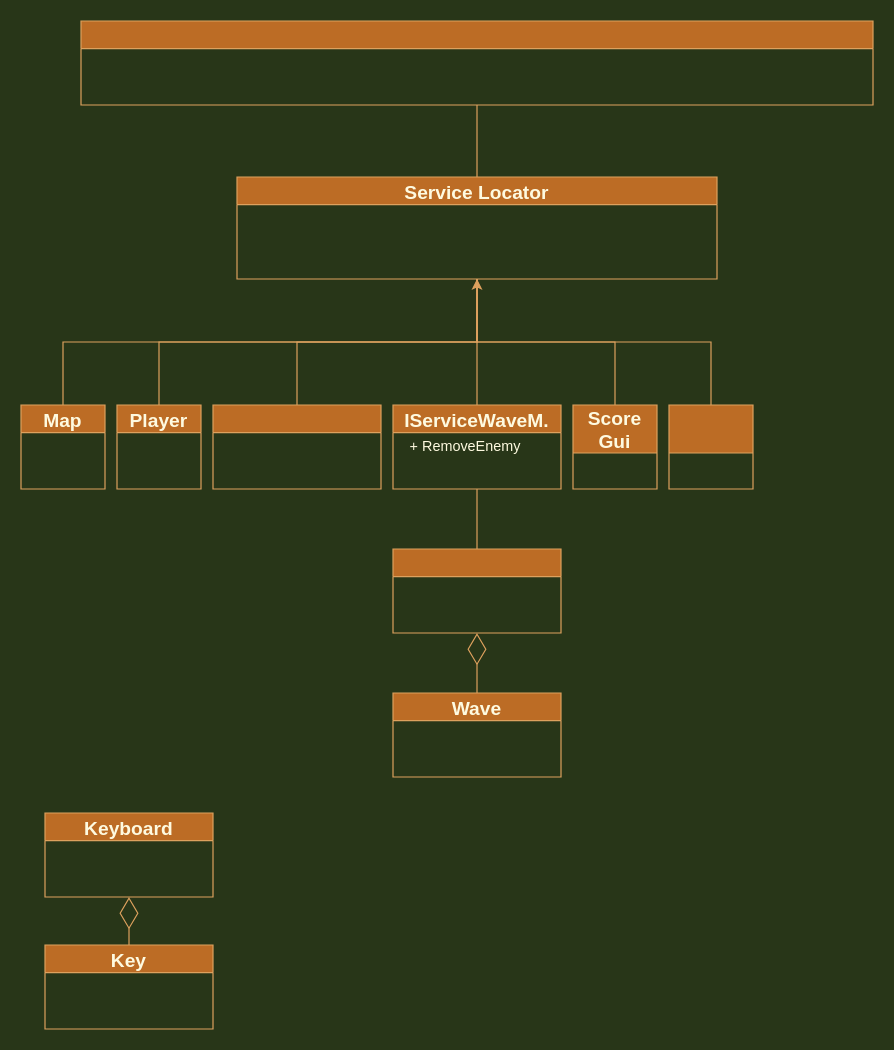
Some shapes in this 894 by 1050 pixel diagram are drawn without their labels. The shapes that lost their labels are listed below. From the top down, each one's centre as x and y in pixels, then its label:
point 476,62: Scene Manager
point 296,446: Particule Manager
point 710,446: Shop Gui
point 476,590: Wave Manager
